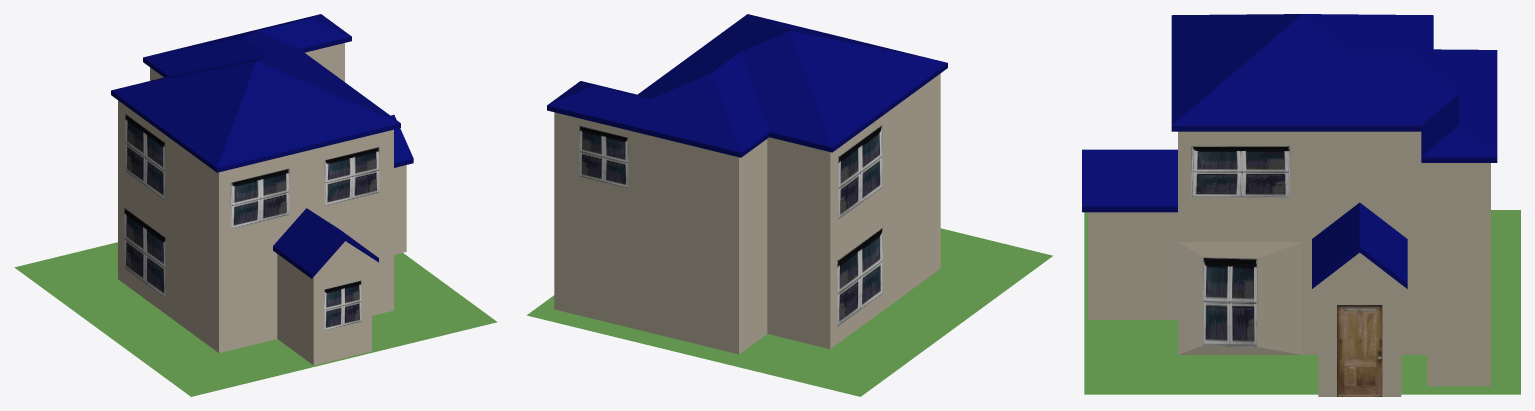
The model's file is House.007.gltf.
3 renders of one model, left to right at view 1: azimuth 30°, elevation 25°; view 2: azimuth 150°, elevation 25°; view 3: azimuth 270°, elevation 25°, orthographic. The views are drawn at different scales.
Visible parts, largest first — view 1: building_014, Plane.007; view 2: building_014, Plane.007; view 3: building_014, Plane.007.
Boxes of the visible parts, bbox=[...] form: building_014: bbox=[111, 14, 413, 365]; Plane.007: bbox=[14, 242, 497, 396]; building_014: bbox=[547, 14, 947, 354]; Plane.007: bbox=[527, 228, 1052, 396]; building_014: bbox=[1082, 14, 1497, 396]; Plane.007: bbox=[1084, 210, 1520, 394].
Bounding box in the file's own units: 7.19 × 5.1 × 7.04.
Materials: 5 (2 with a texture image).
